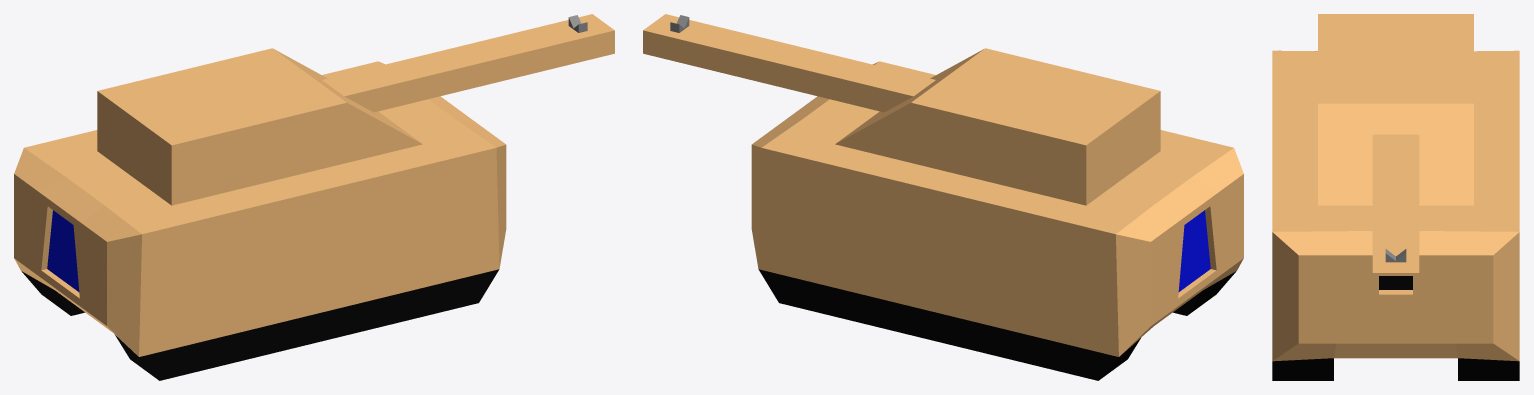
Rendered from LightTank_Desert.fbx.
3 views of the same model, side by side, from view 1: azimuth 30°, elevation 25°; view 2: azimuth 150°, elevation 25°; view 3: azimuth 270°, elevation 25° (orthographic). The views are drawn at different scales.
Visible parts, largest first — view 1: Light_Tank; view 2: Light_Tank; view 3: Light_Tank.
Boxes of the visible parts, <box> form: Light_Tank: <box>14,14,614,380</box>; Light_Tank: <box>643,14,1243,380</box>; Light_Tank: <box>1272,14,1519,380</box>.
Bounding box in the file's own units: 1061 × 394 × 400.
